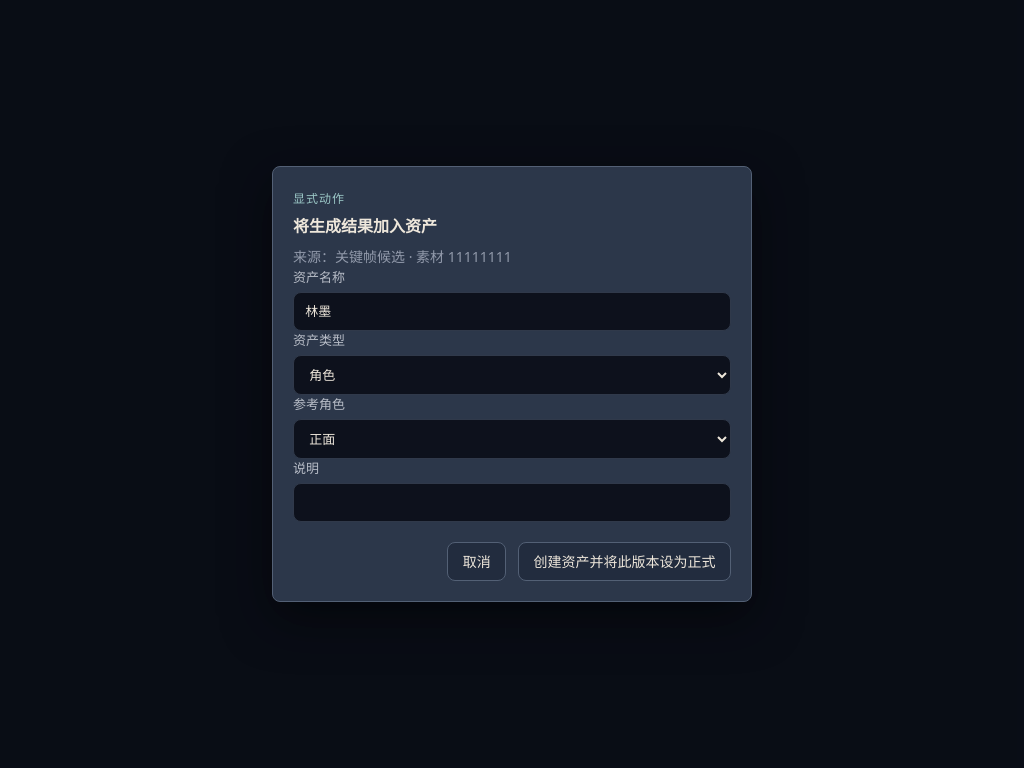
Test: AddArtifactToAssetDialog › keeps the dialog open and explains a server rejection
Click the button with test id "add-asset-confirm". click: (625, 562)
box: [518,542,731,581]
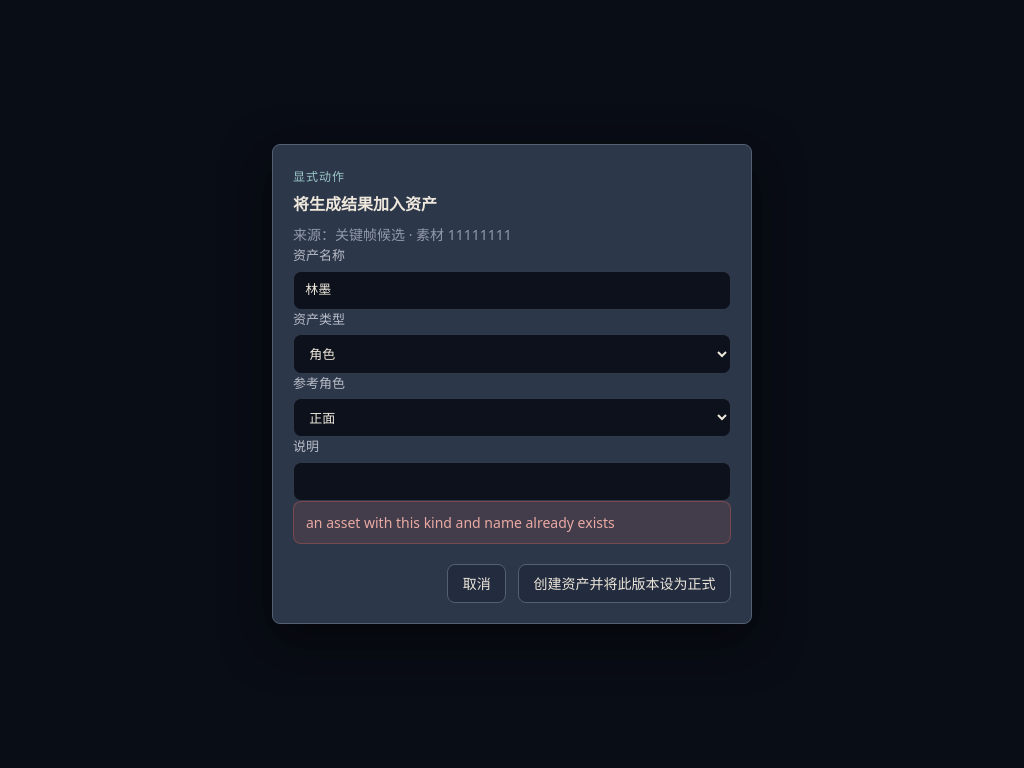
Result: the message with test id "add-asset-error" shows "already exists" at [306,513,615,532]
